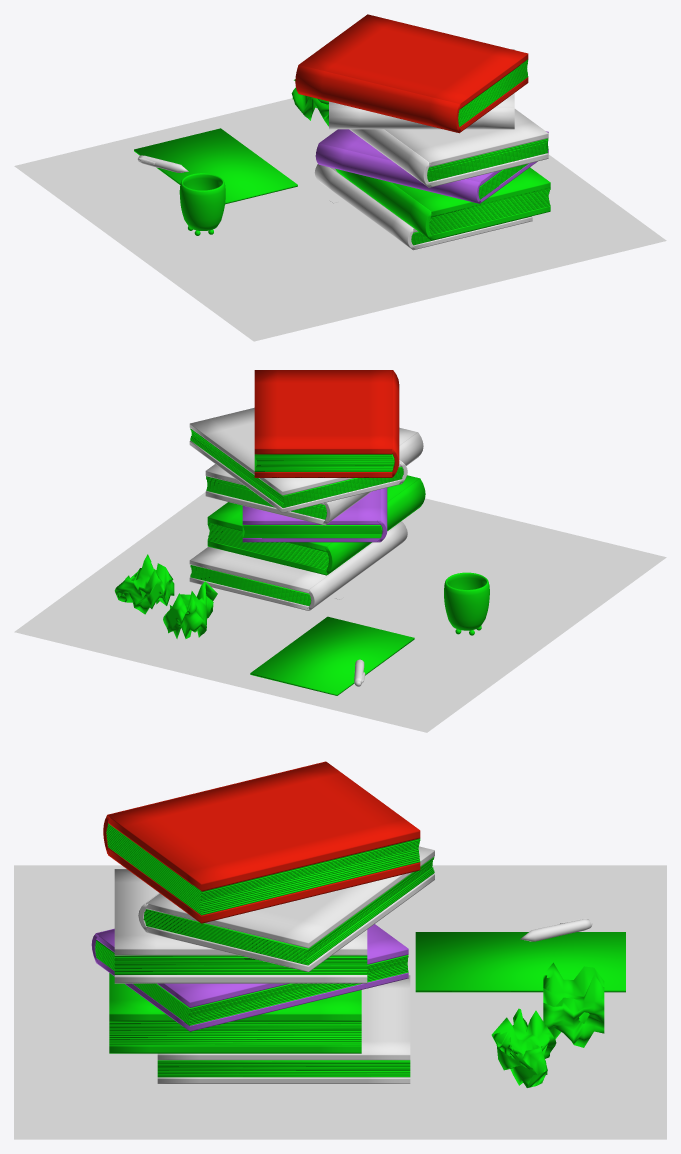
File: book2.glb
3 renders of one model, top to bottom at view 1: azimuth 30°, elevation 25°; view 2: azimuth 150°, elevation 25°; view 3: azimuth 270°, elevation 25°, orthographic. The views are drawn at different scales.
Visible parts, largest first — view 1: Book_Case; view 2: Book_Case; view 3: Book_Case.
Boxes of the visible parts, x1,y1,x2,y2 form: Book_Case: (14, 14, 666, 341); Book_Case: (14, 370, 666, 732); Book_Case: (14, 761, 666, 1139).
Size of the model in its own units: 141 by 52 by 141.
